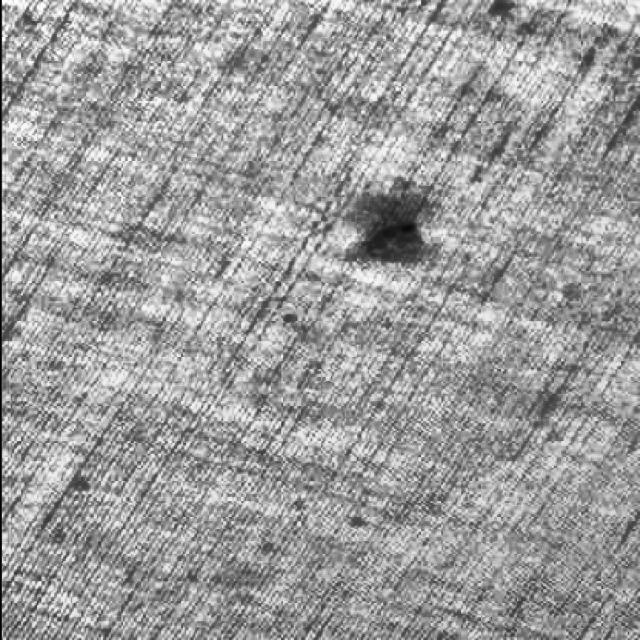oil_spot: (345, 202, 441, 284)
